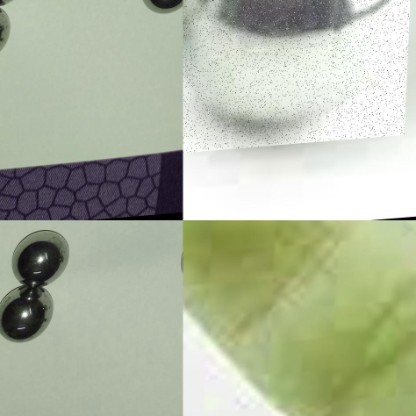ironball: (182, 0, 383, 121), (0, 286, 60, 342), (10, 229, 68, 283)
